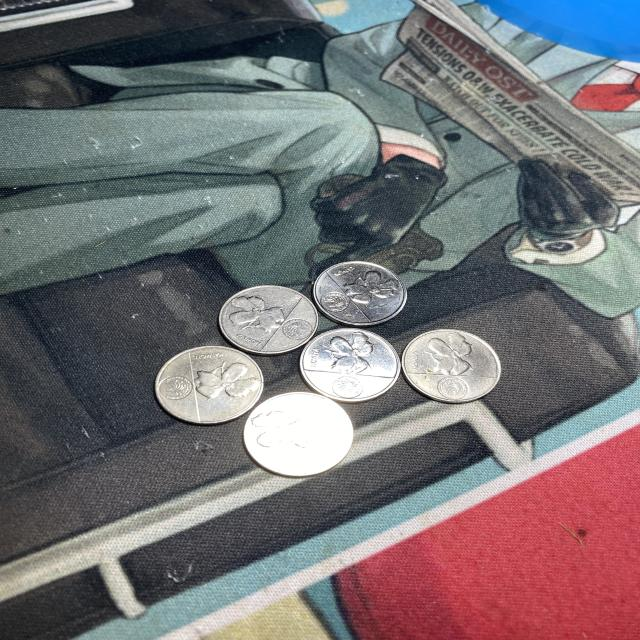25Cent_New_Back: (218, 296, 291, 342), (189, 352, 251, 402), (345, 263, 394, 312), (424, 333, 482, 374), (328, 336, 378, 368)
